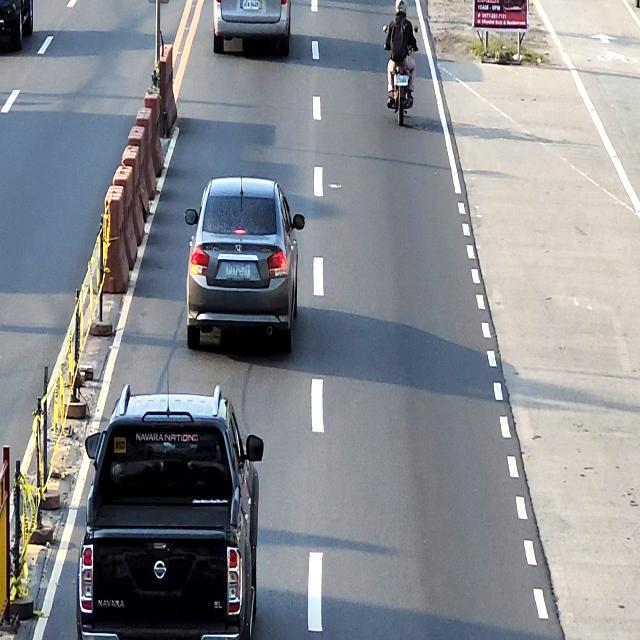Car: (74, 384, 264, 640), (185, 175, 306, 357), (213, 0, 291, 53)
License-Plate: (225, 264, 251, 278), (243, 0, 259, 9), (396, 74, 407, 86)
Motorcycle: (383, 24, 419, 127)
